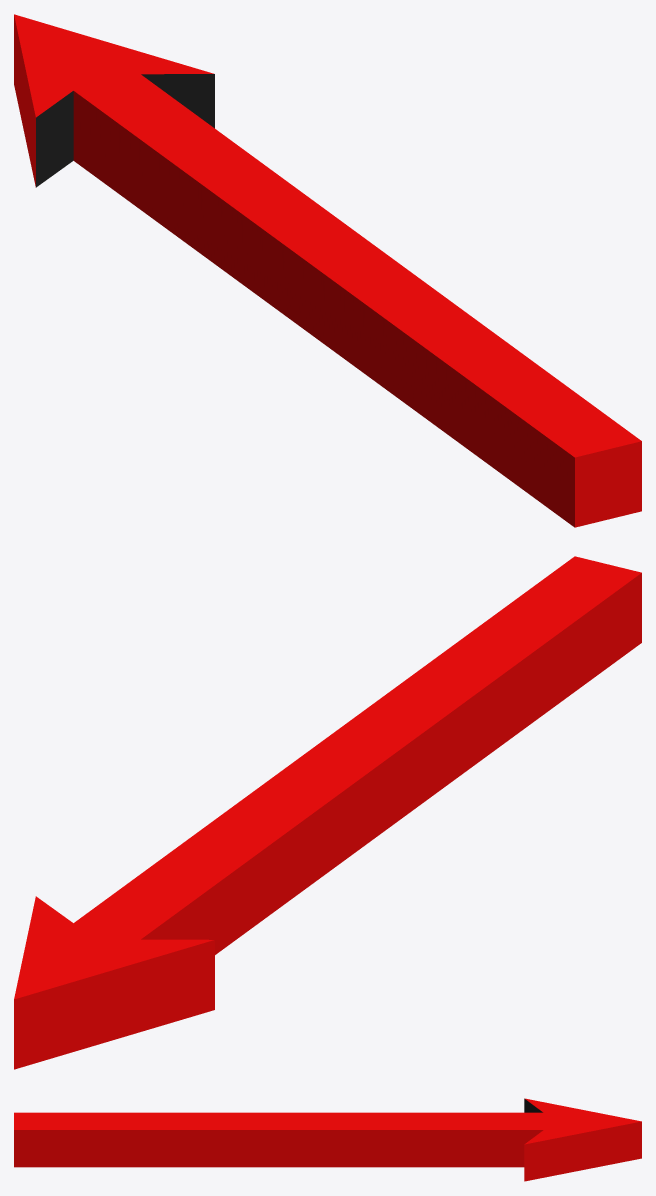
The model's file is ArrowModel.fbx.
3 renders of one model, top to bottom at view 1: azimuth 30°, elevation 25°; view 2: azimuth 150°, elevation 25°; view 3: azimuth 270°, elevation 25°, orthographic. The views are drawn at different scales.
Parts seen in each view (by area): view 1: Model; view 2: Model; view 3: Model.
Part boxes in pixels (bbox=[...]): Model: bbox=[14, 14, 641, 527]; Model: bbox=[14, 556, 641, 1069]; Model: bbox=[14, 1098, 641, 1181].
Bounding box in the file's own units: 3.1 × 1.16 × 17.82.
